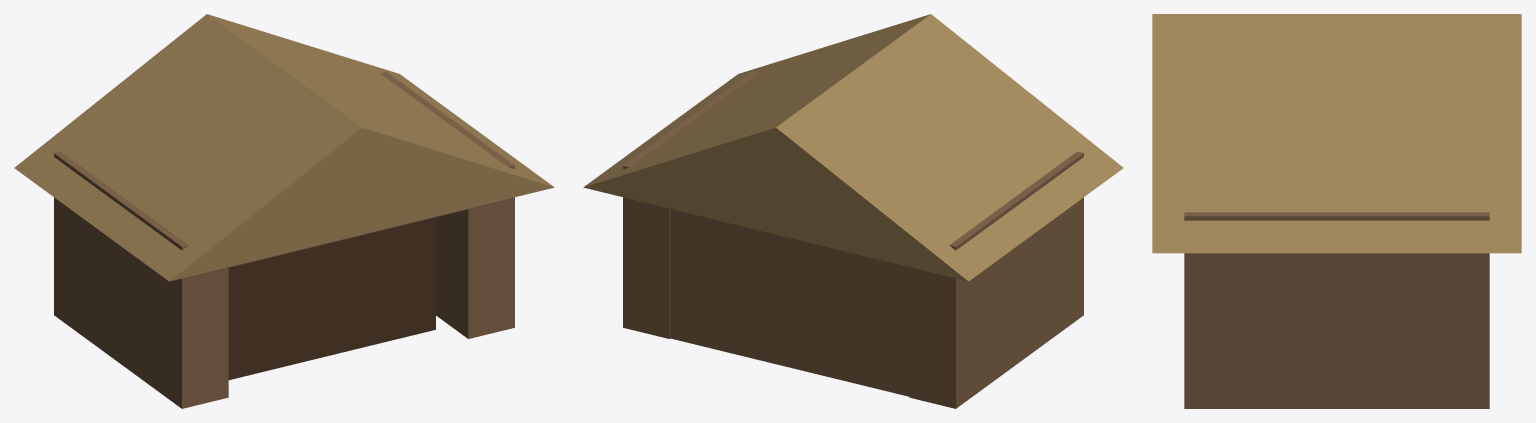
The model's file is pollaio.glb.
3 renders of one model, left to right at view 1: azimuth 30°, elevation 25°; view 2: azimuth 150°, elevation 25°; view 3: azimuth 270°, elevation 25°, orthographic. The views are drawn at different scales.
Bounding box in the file's own units: 1.32 × 0.82 × 0.92.
